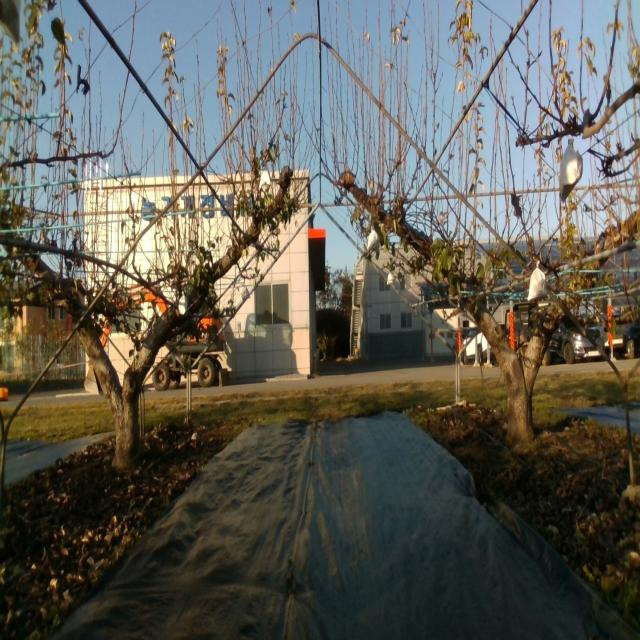pearbags: (559, 142, 583, 206), (526, 260, 548, 303), (259, 165, 271, 189)
